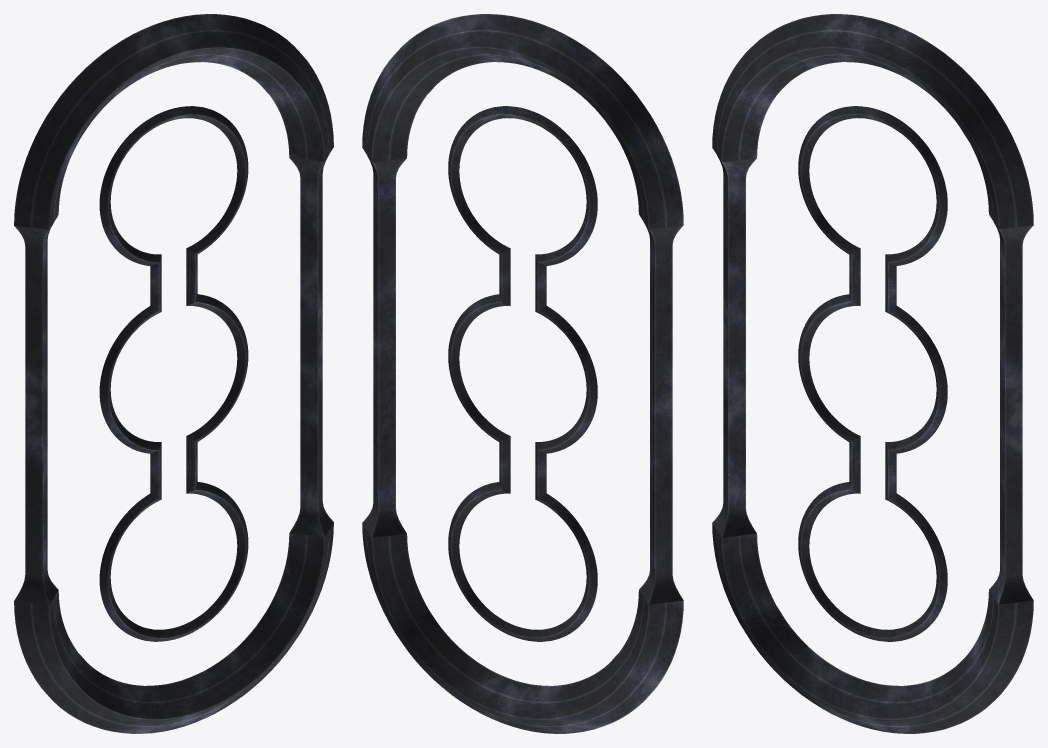
File: traffic_light.glb
3 renders of one model, left to right at view 1: azimuth 30°, elevation 25°; view 2: azimuth 150°, elevation 25°; view 3: azimuth 330°, elevation 25°, orthographic.
Visible parts, largest first — view 1: n4gc_2-LVD_gimmick_02_04; view 2: n4gc_2-LVD_gimmick_02_04; view 3: n4gc_2-LVD_gimmick_02_04.
Boxes of the visible parts, x1=… form: n4gc_2-LVD_gimmick_02_04: x1=14, y1=14, x2=333, y2=733; n4gc_2-LVD_gimmick_02_04: x1=362, y1=14, x2=683, y2=733; n4gc_2-LVD_gimmick_02_04: x1=712, y1=14, x2=1033, y2=733.
Size of the model in its own units: 3.58 by 7.58 by 0.5134.
1 material, 1 textured.
